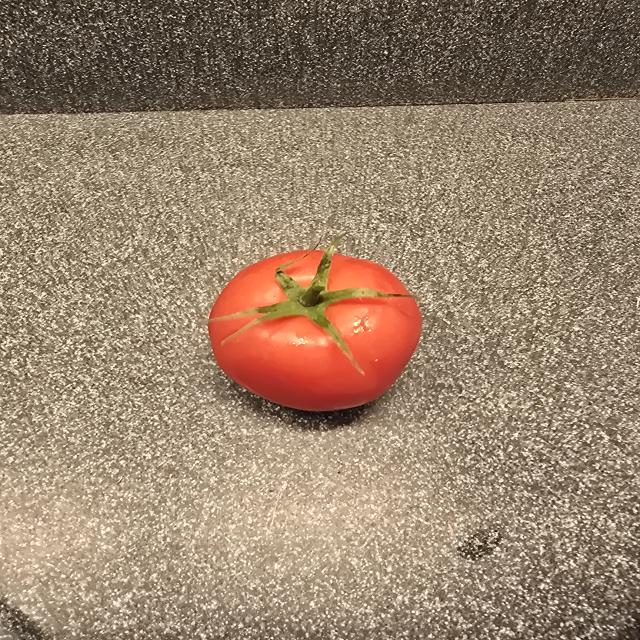Tomato: (208, 238, 422, 411)
